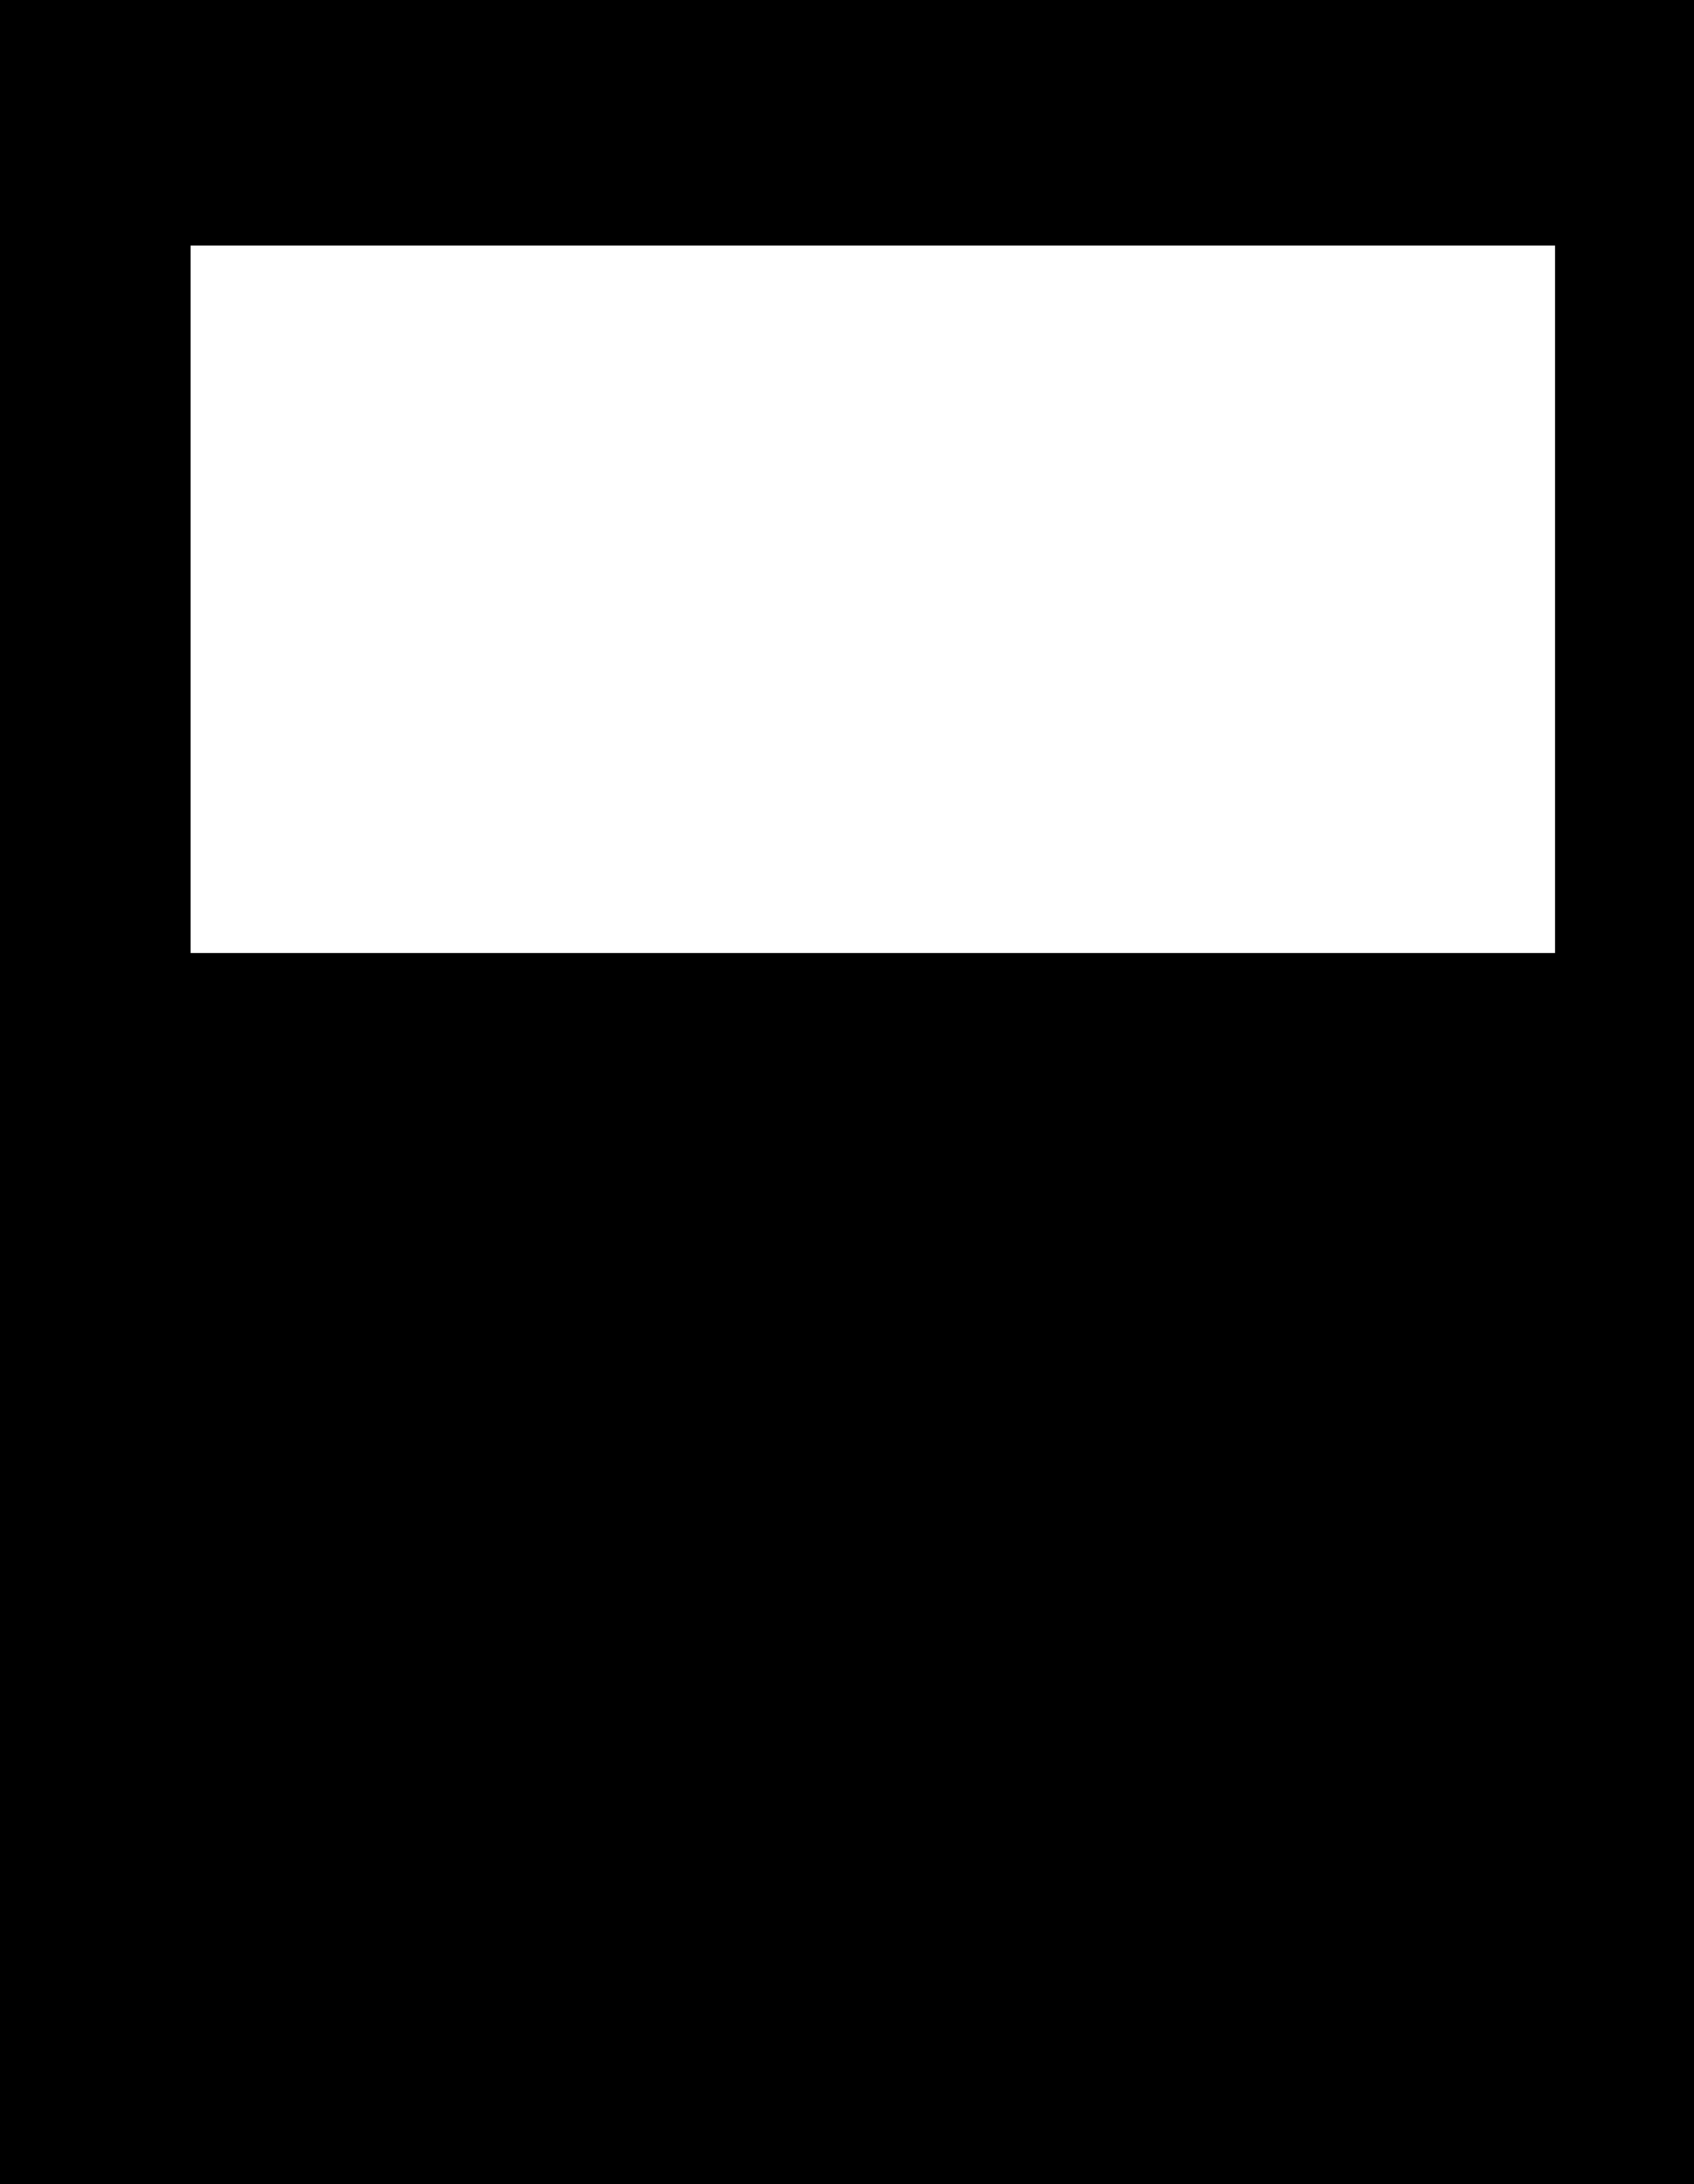table: (191, 246, 1554, 952)
